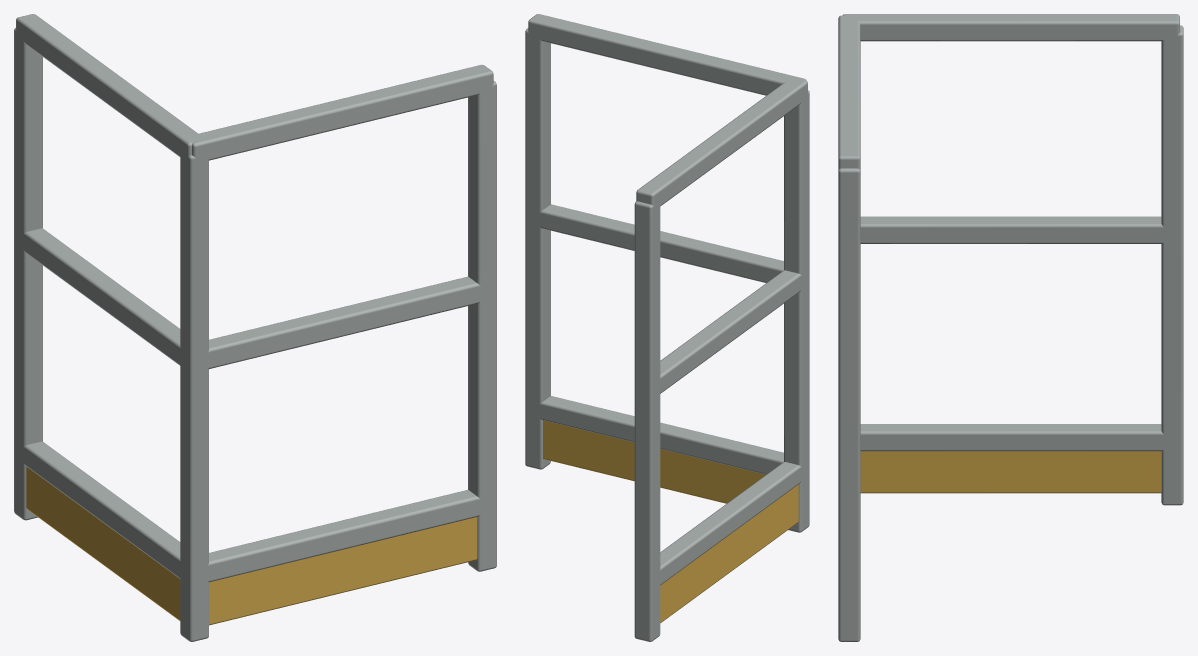
File: automated-parking-and-vehicle-retrieval-automated-park-ce487773__30371.glb
3 renders of one model, left to right at view 1: azimuth 30°, elevation 25°; view 2: azimuth 150°, elevation 25°; view 3: azimuth 270°, elevation 25°, orthographic. The views are drawn at different scales.
Parts seen in each view (by area): view 1: automated-parking-and-vehicle-retrieval-catwalk-railing-corn (×2); view 2: automated-parking-and-vehicle-retrieval-catwalk-railing-corn (×2); view 3: automated-parking-and-vehicle-retrieval-catwalk-railing-corn (×2).
Part boxes in pixels (x1,y1,x2,y2): automated-parking-and-vehicle-retrieval-catwalk-railing-corn (×2): (14,14,496,641); automated-parking-and-vehicle-retrieval-catwalk-railing-corn (×2): (525,14,809,641); automated-parking-and-vehicle-retrieval-catwalk-railing-corn (×2): (838,14,1183,641).
Bounding box in the file's own units: 0.6951 × 1.08 × 0.6951.
